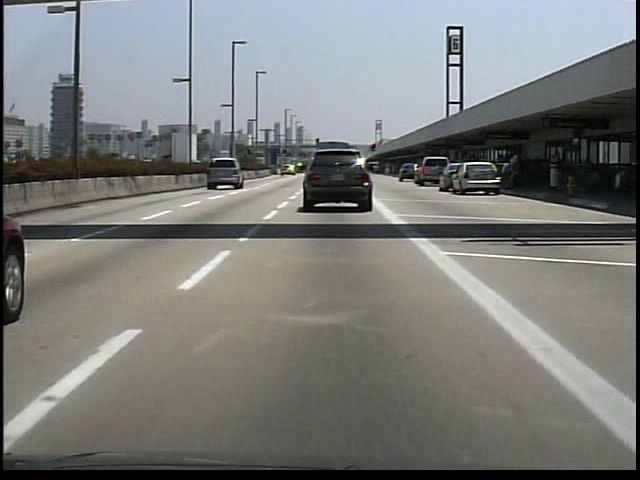person: (506, 150, 530, 192)
